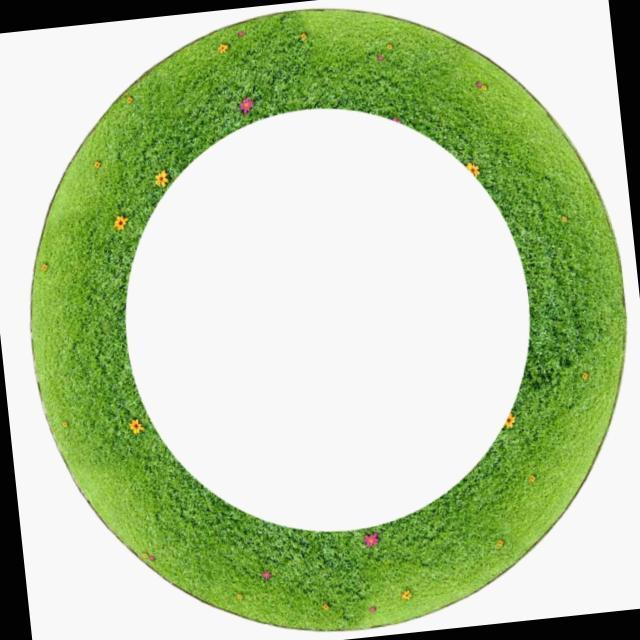Circle: (22, 4, 628, 636)
